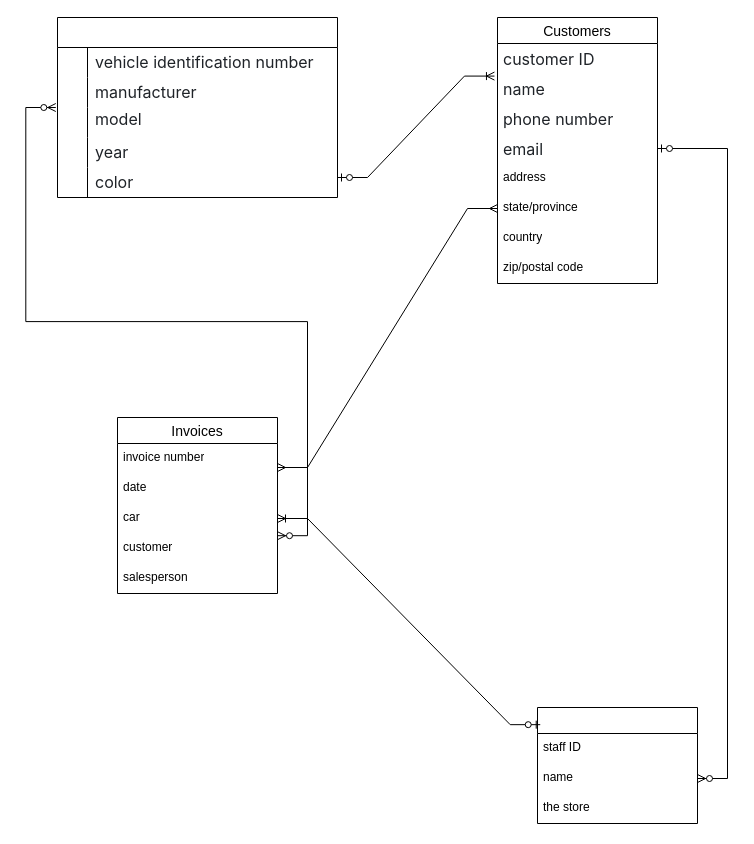
This 754x844 diagram has some shape labels left out. The box of each missing label's shape, as (x1, y1, x2, y2) in pixels:
Cars: (56, 16, 338, 198)
Salespersons: (536, 706, 698, 824)
